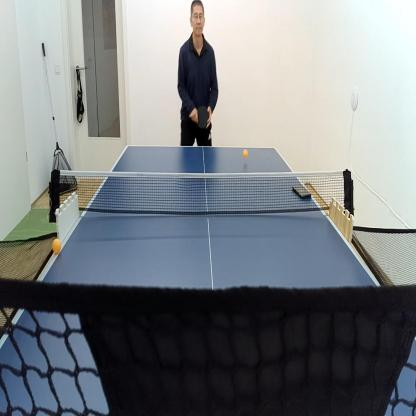Ball: (51, 238, 62, 254), (243, 148, 248, 156)
